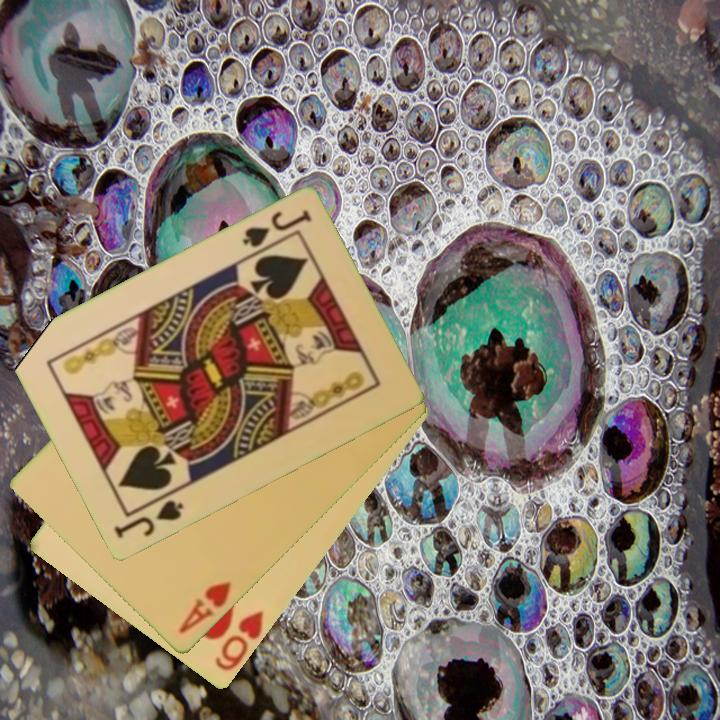6h: (211, 607, 267, 675)
Ah: (175, 579, 235, 637)
Js: (238, 207, 314, 259), (110, 497, 187, 542)
